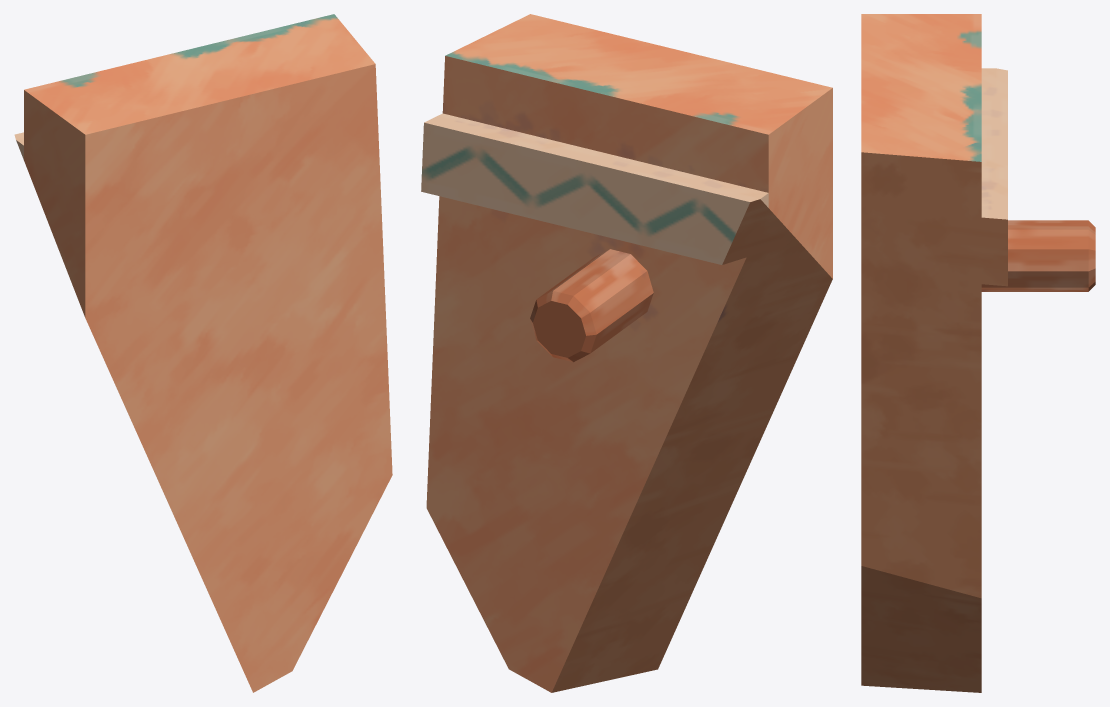
File: wall2_plain_s05.fbx
The picture shows the model from 3 angles, left to right: view 1: azimuth 30°, elevation 25°; view 2: azimuth 150°, elevation 25°; view 3: azimuth 270°, elevation 25°; orthographic projection. The views are drawn at different scales.
Visible parts, largest first — view 1: wall2_plain_s05; view 2: wall2_plain_s05; view 3: wall2_plain_s05.
Part boxes in pixels (x1=…): wall2_plain_s05: x1=14, y1=14, x2=392, y2=692; wall2_plain_s05: x1=421, y1=14, x2=832, y2=692; wall2_plain_s05: x1=861, y1=14, x2=1095, y2=692.
Size of the model in its own units: 3.08 by 5.37 by 1.95.
